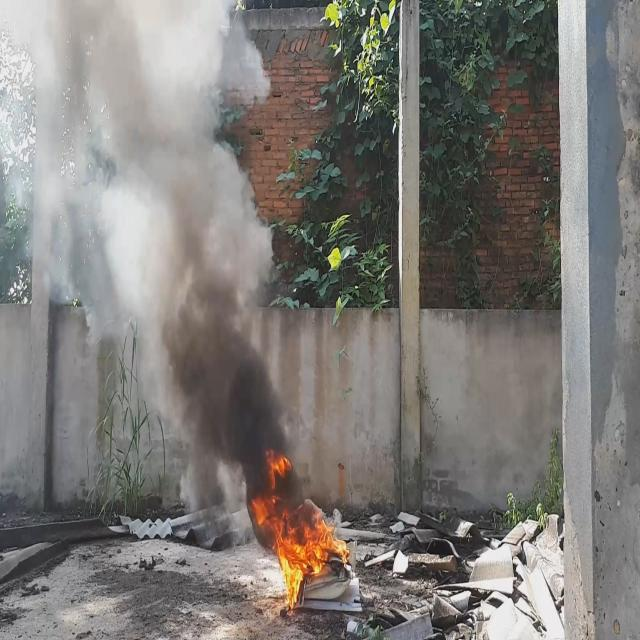Fire: (254, 452, 348, 607)
Smoke: (0, 0, 306, 546)
